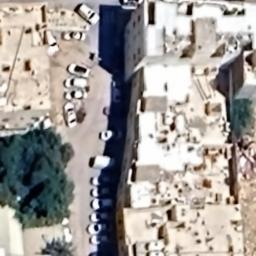SUV: (74, 3, 102, 26), (44, 29, 62, 55), (90, 196, 120, 211), (91, 186, 119, 198), (92, 174, 118, 186), (63, 78, 90, 88)
sedan: (61, 101, 80, 129), (62, 86, 94, 102), (84, 221, 117, 236), (65, 60, 92, 78), (88, 232, 120, 246), (111, 76, 126, 104), (61, 29, 89, 43), (96, 129, 126, 142), (87, 210, 115, 222)
